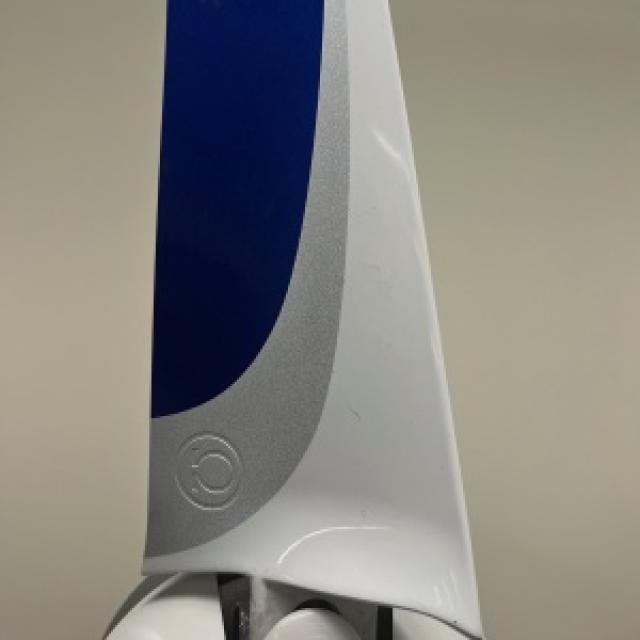healthy: (107, 0, 480, 638)
